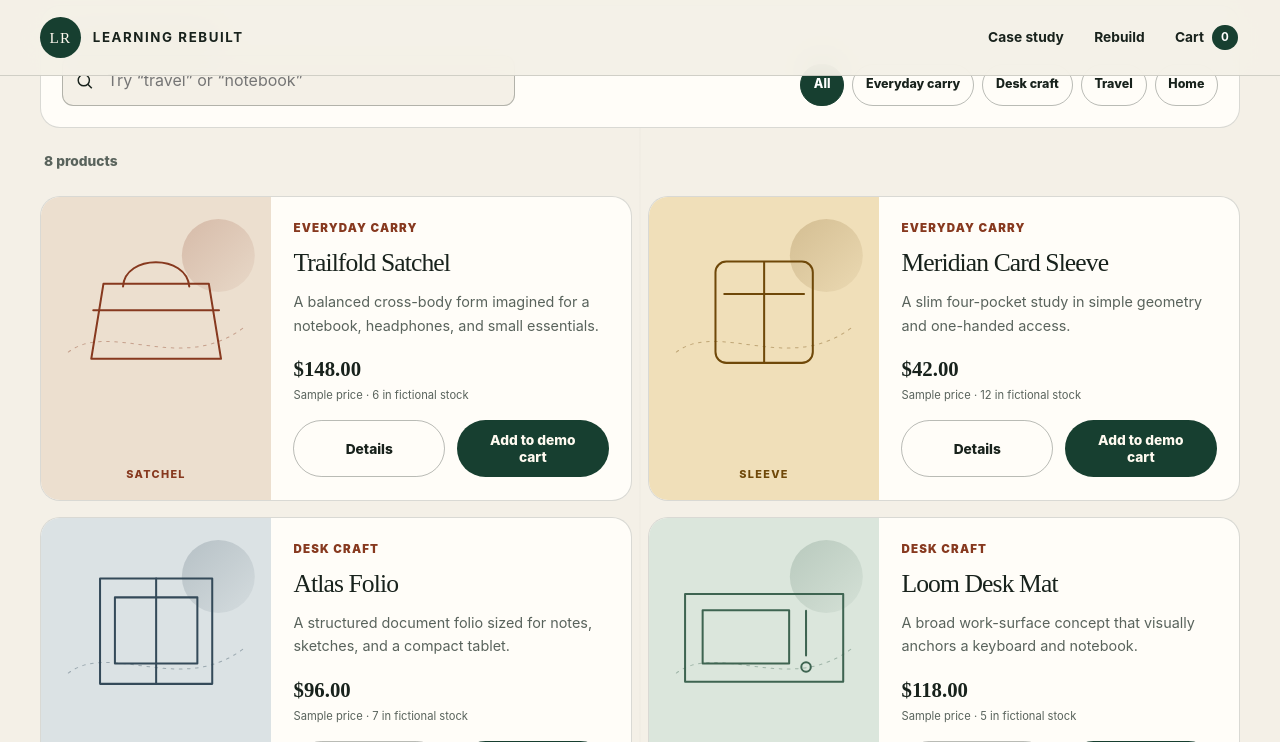
it: App › integrates the catalog and updates the live cart count
(page scrolled)
Check: the link with aria-label "cart · 0 items" is shown, box top-left (1173, 17), bottom-right (1240, 58)
Click the button with aria-label "add trailfold satchel" at (533, 449), box top-left (457, 420), bottom-right (609, 477)
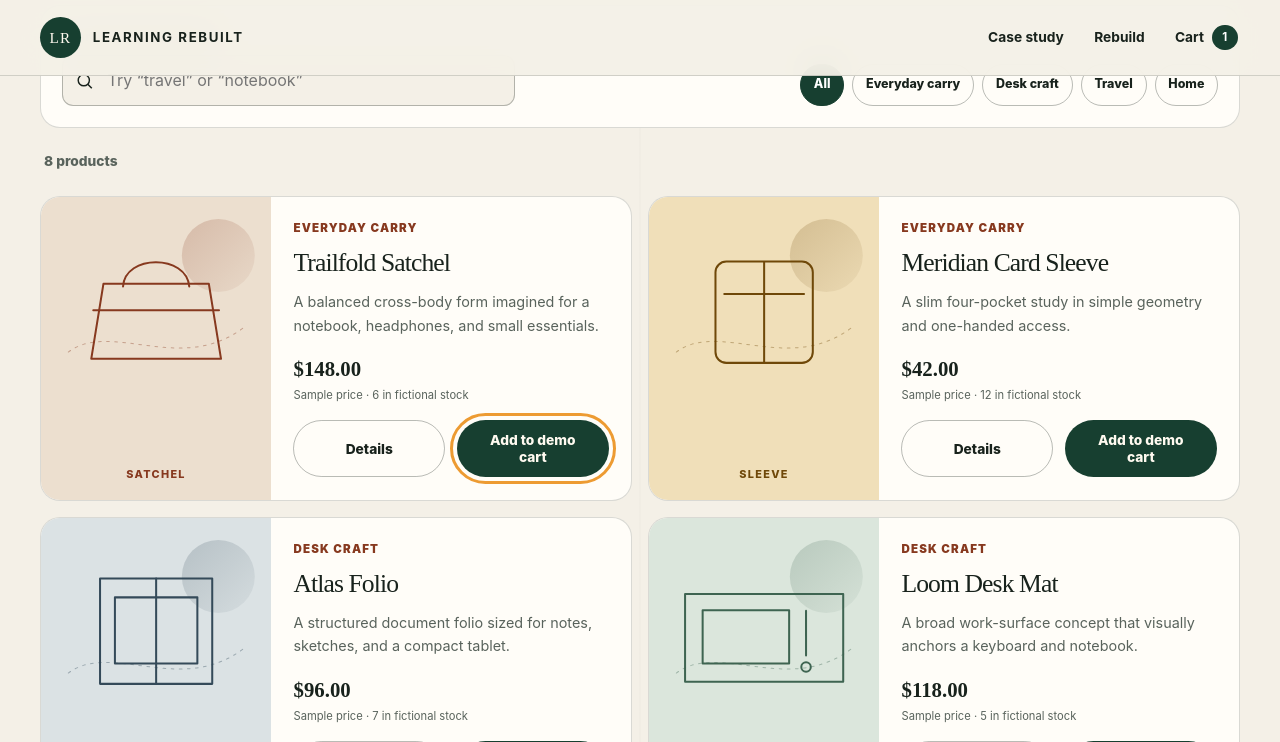
Check: the link with aria-label "cart · 1 item" is shown, box top-left (1173, 17), bottom-right (1240, 58)
